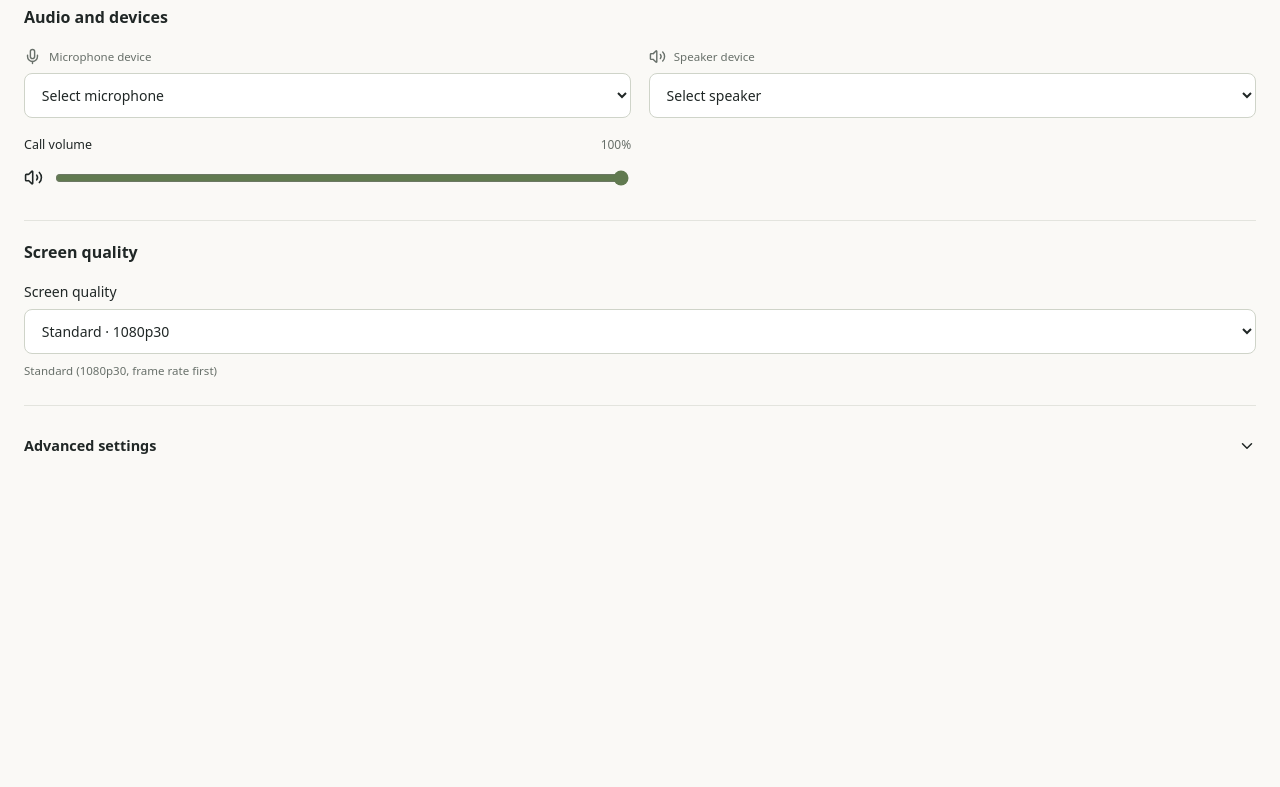
it: controlled browser screen sharing › offers Cloudflare SFU at the source and locks software encoding for that choice
This screenshot has width=1280, height=787.
Click the heading "Advanced settings": (90,446) [24,436,1256,455]
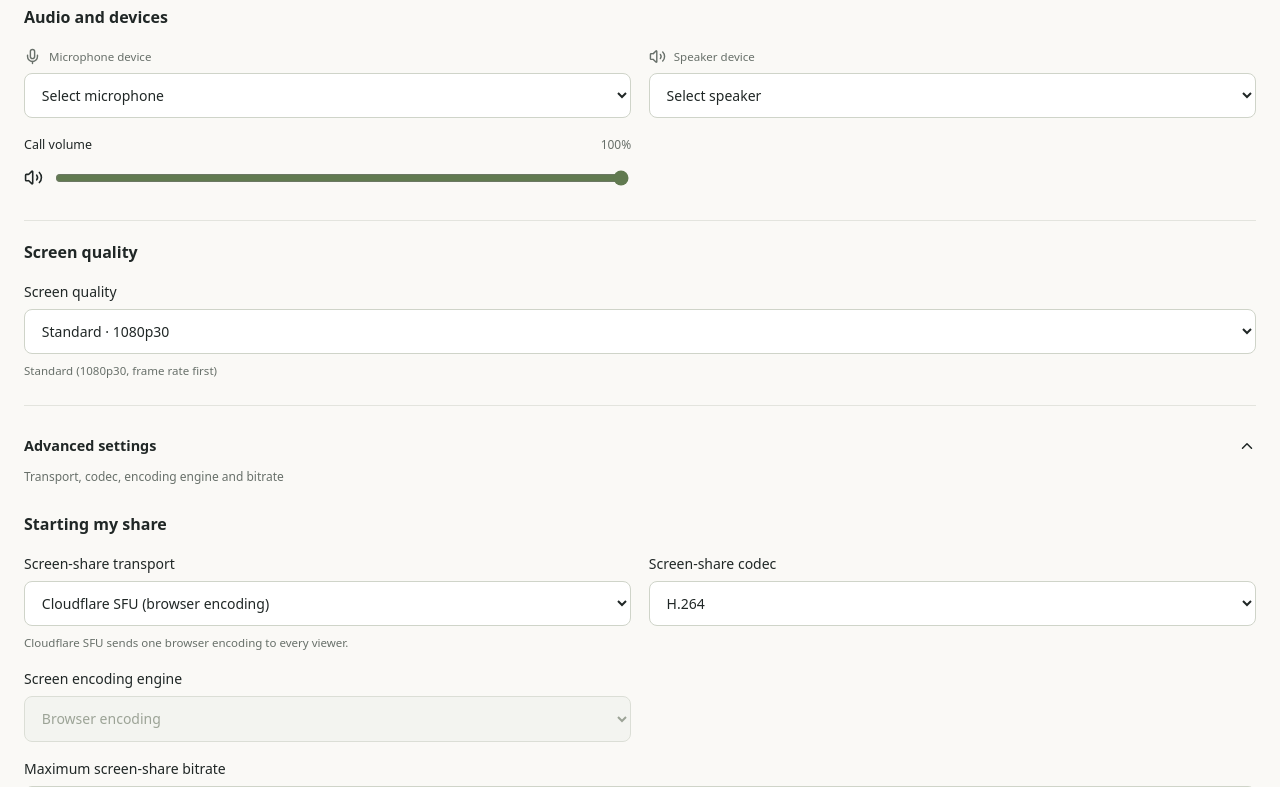
Now the dropdown labelled "Screen encoding engine" is disabled, box [24,696,631,742]
